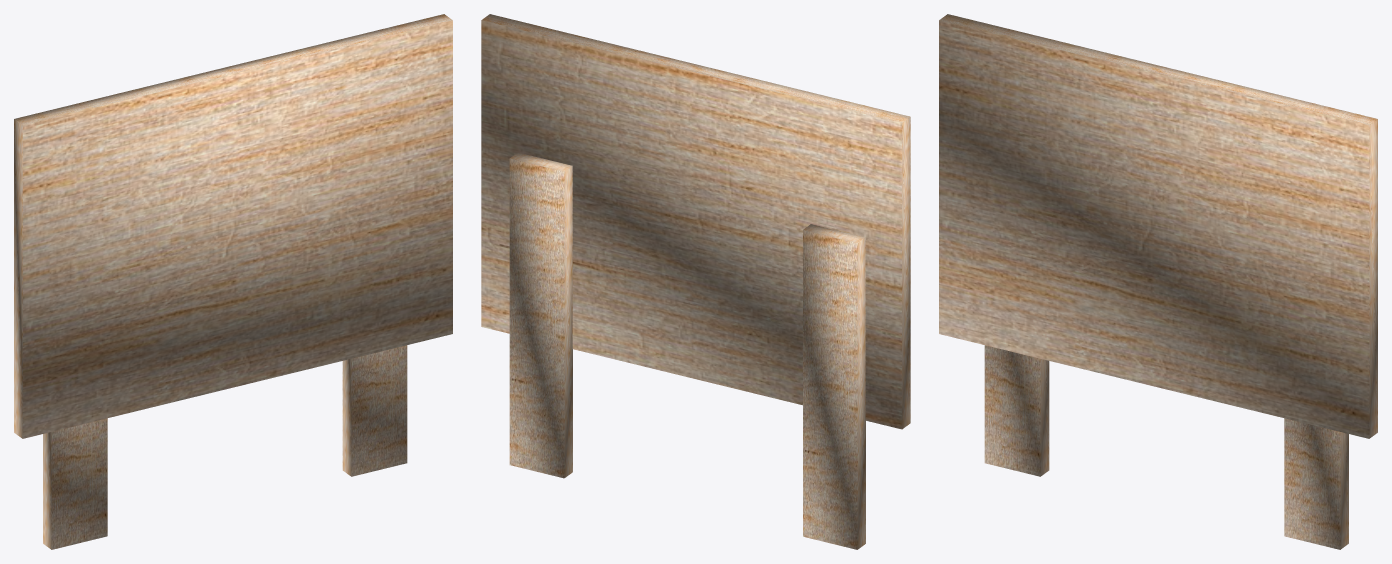
The model's file is signpost.fbx.
3 renders of one model, left to right at view 1: azimuth 30°, elevation 25°; view 2: azimuth 150°, elevation 25°; view 3: azimuth 330°, elevation 25°, orthographic. The views are drawn at different scales.
Visible parts, largest first — view 1: Signpost; view 2: Signpost; view 3: Signpost.
Boxes of the visible parts, box(x1,y1,x2,y2) form: Signpost: box(14, 14, 452, 549); Signpost: box(481, 14, 910, 549); Signpost: box(939, 14, 1377, 549).
Size of the model in its own units: 287 by 280 by 19.61.
1 material, 1 textured.
